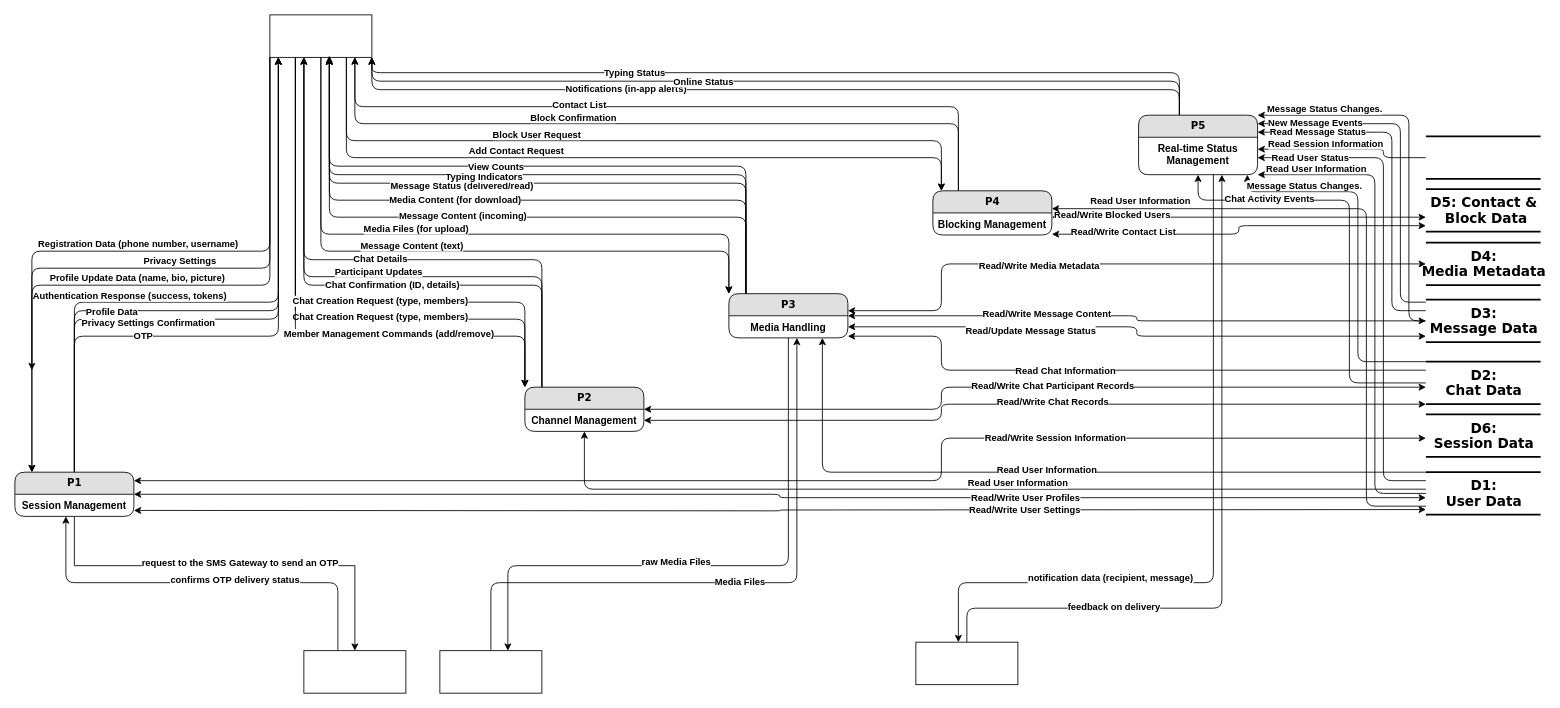
The diagram is 1560 pixels wide and 708 high, and some of its shapes have lost their labels. The shapes that lost their labels are listed below. From the top down, each one's centre as x and y in pixels, then its label:
At pixel 320 35: "User".
At pixel 1483 157: "D6: Session Data".
At pixel 354 671: "SMS Gateway".
At pixel 490 671: "Cloud/Media Storage".
At pixel 966 663: "Push Notification Service".
